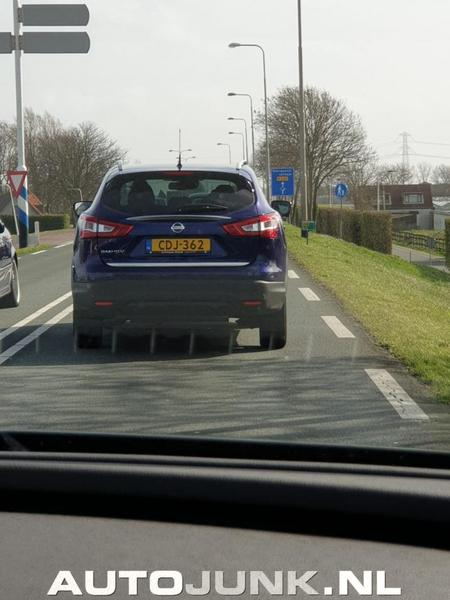kenteken: (147, 237, 211, 253)
